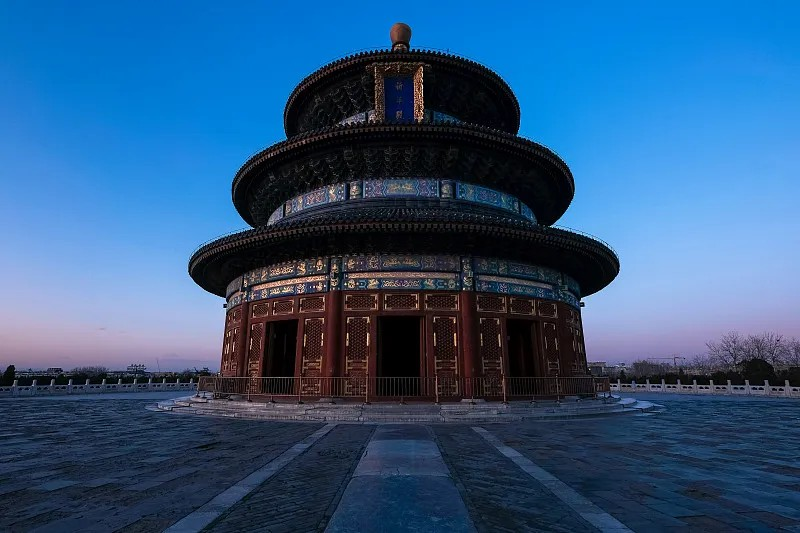Heaven: (187, 23, 624, 402)
